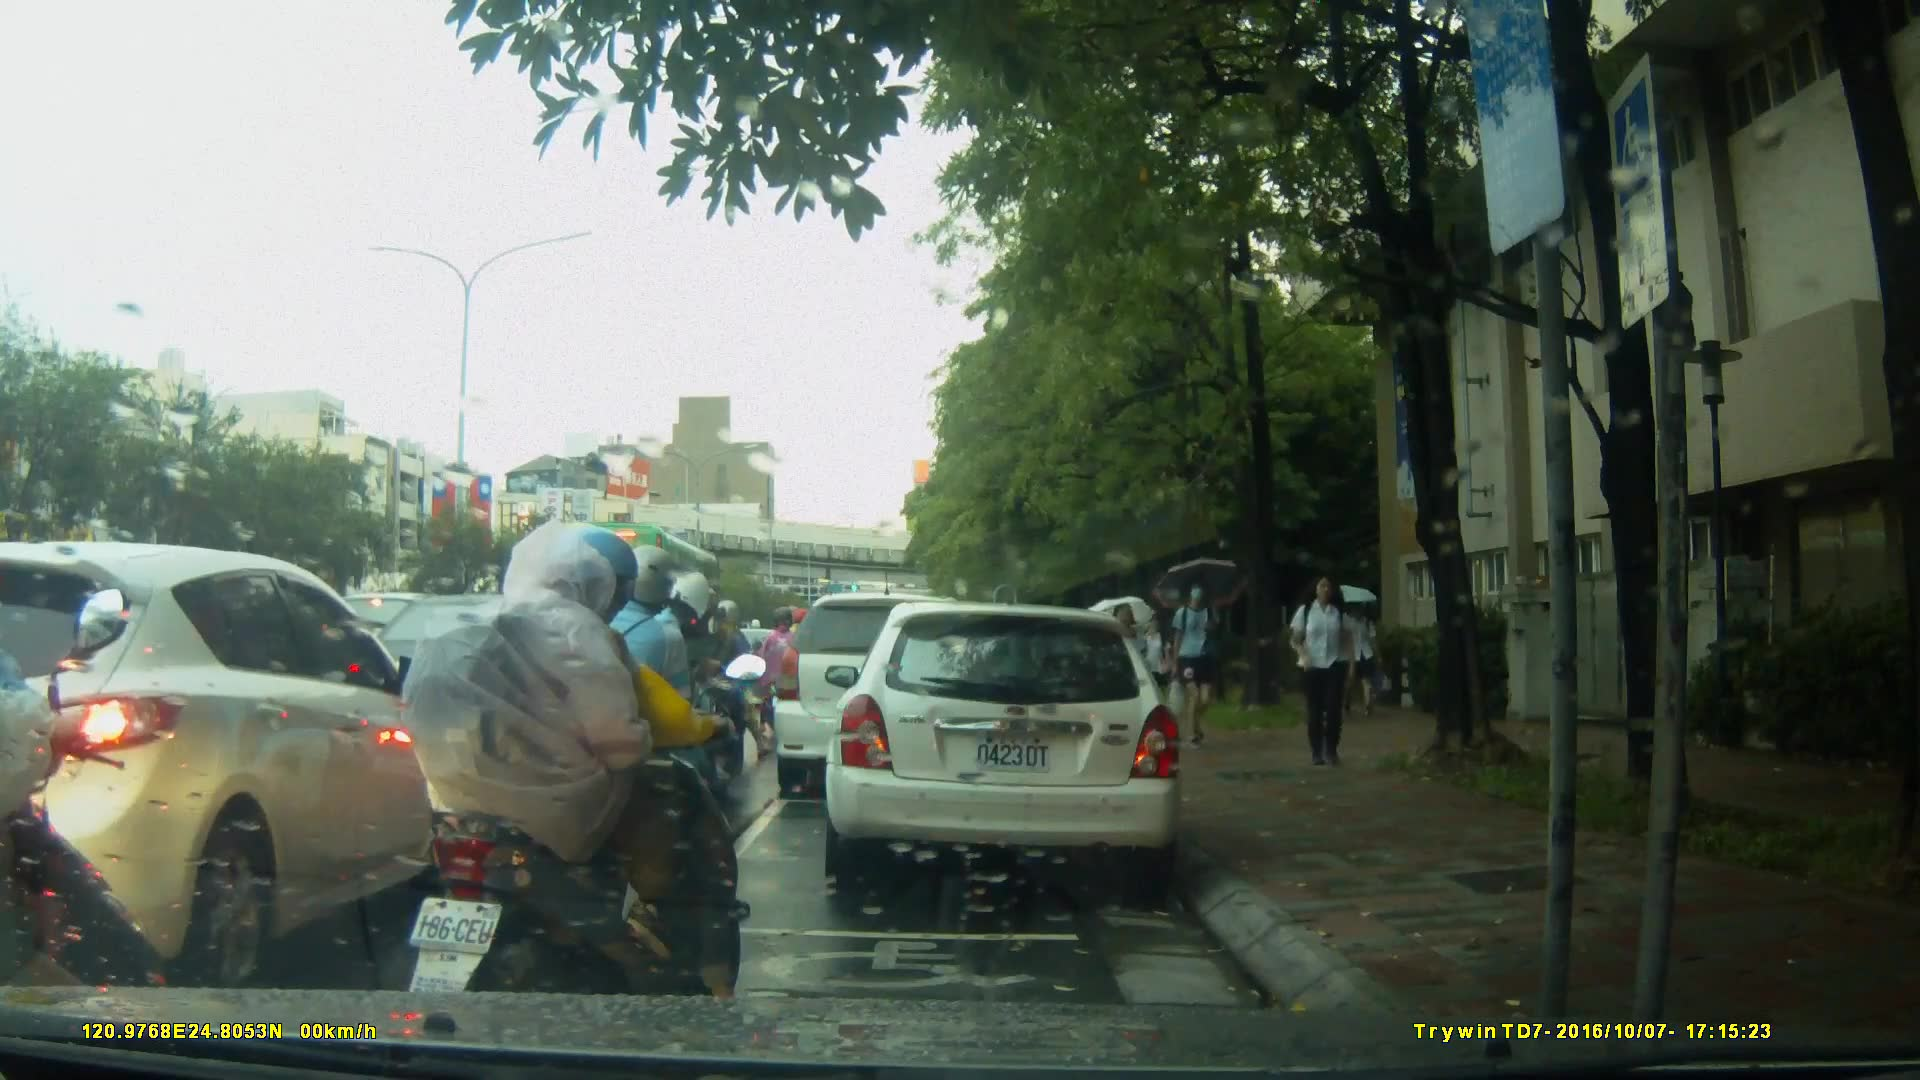pedestrian: (1290, 567, 1367, 773), (1166, 574, 1232, 757), (1105, 601, 1148, 716), (1137, 610, 1172, 729)
rider: (412, 528, 761, 1034), (1, 573, 159, 1076), (558, 546, 718, 882), (625, 574, 752, 856), (686, 597, 773, 767), (752, 602, 806, 750)
vehicle: (1, 540, 479, 990), (822, 604, 1186, 882), (774, 595, 995, 802), (554, 519, 739, 666)
